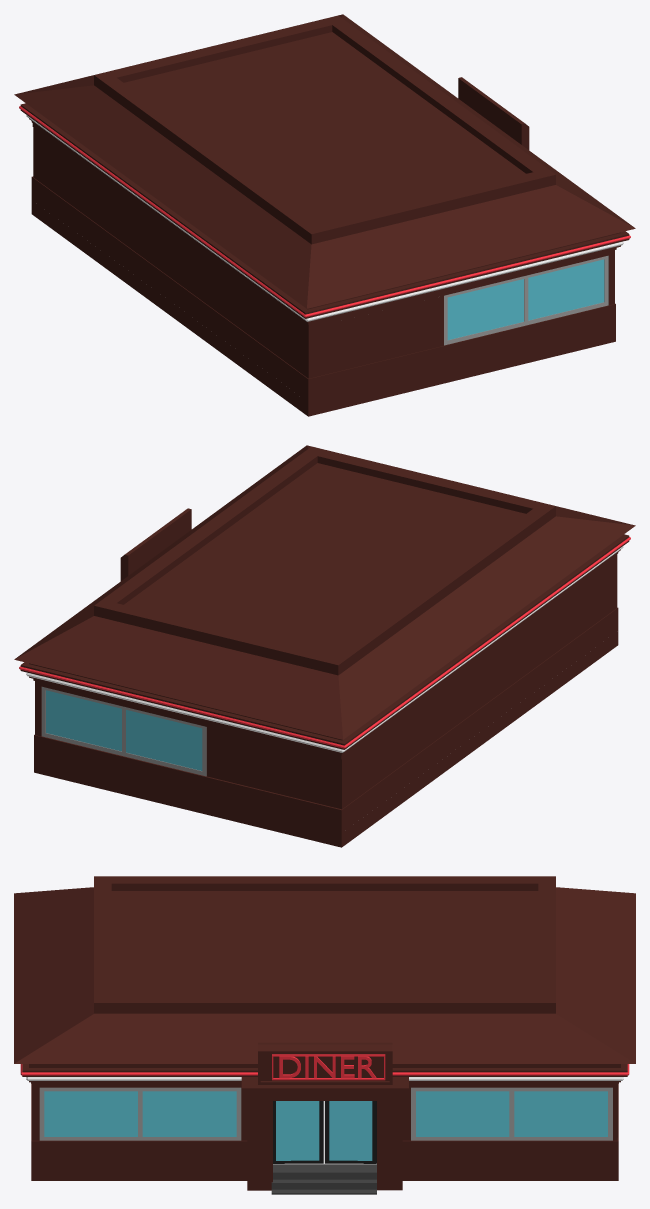
File: Dinner_building.fbx
3 renders of one model, top to bottom at view 1: azimuth 30°, elevation 25°; view 2: azimuth 150°, elevation 25°; view 3: azimuth 270°, elevation 25°, orthographic. The views are drawn at different scales.
Parts seen in each view (by area): view 1: MainBuilding_walls, Glass, bottom_floor, red_neon, White_neon, Window_frames; view 2: MainBuilding_walls, Glass, bottom_floor, red_neon, White_neon, Window_frames; view 3: MainBuilding_walls, Glass, Window_frames, Right_Door, Stairs, Left_Door, red_neon, Sing, White_neon.
Part boxes in pixels (x1,y1,x2,y2): MainBuilding_walls: (14, 14, 635, 416); Glass: (447, 259, 604, 340); bottom_floor: (31, 200, 308, 416); red_neon: (19, 106, 630, 317); White_neon: (26, 115, 623, 321); Window_frames: (444, 255, 608, 345); MainBuilding_walls: (14, 445, 635, 847); Glass: (46, 690, 202, 770); bottom_floor: (341, 631, 618, 847); red_neon: (19, 537, 630, 748); White_neon: (26, 546, 623, 752); Window_frames: (41, 686, 206, 776); MainBuilding_walls: (14, 876, 635, 1190); Glass: (44, 1091, 607, 1136); Window_frames: (39, 1087, 612, 1140); Right_Door: (325, 1101, 376, 1163); Stairs: (271, 1164, 376, 1194); Left_Door: (273, 1101, 323, 1163); red_neon: (20, 1064, 629, 1075); Sing: (272, 1054, 385, 1080); White_neon: (26, 1077, 623, 1080).
Size of the model in its own units: 1438 by 612 by 2122.
